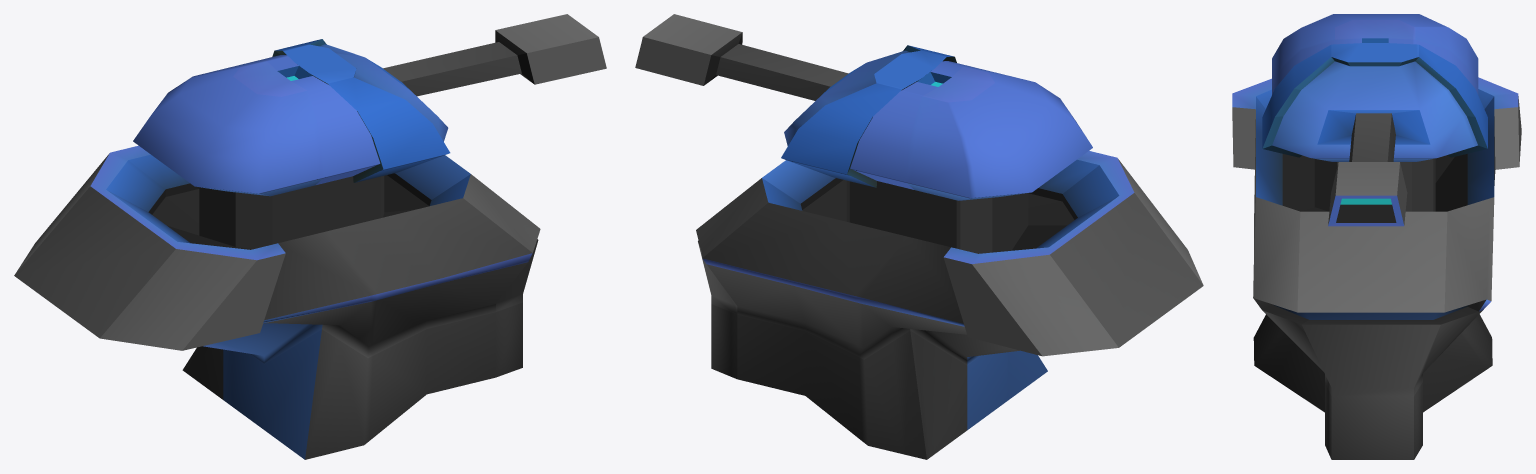
File: torreta.fbx
The picture shows the model from 3 angles, left to right: view 1: azimuth 30°, elevation 25°; view 2: azimuth 150°, elevation 25°; view 3: azimuth 270°, elevation 25°; orthographic projection. The views are drawn at different scales.
Parts seen in each view (by area): view 1: polySurface230, polySurface231, polySurface232; view 2: polySurface230, polySurface231, polySurface232; view 3: polySurface230, polySurface231, polySurface232.
Part boxes in pixels (x1,y1,x2,y2): polySurface230: (14,145,540,459); polySurface231: (133,39,450,196); polySurface232: (383,14,606,96); polySurface230: (696,151,1203,459); polySurface231: (781,45,1092,200); polySurface232: (635,14,848,100); polySurface230: (1232,77,1521,459); polySurface231: (1262,14,1487,161); polySurface232: (1328,113,1407,226).
Bounding box in the file's own units: 353 × 215 × 175.
